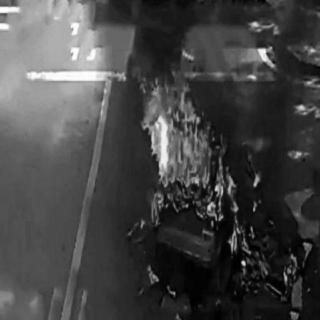Fire: (125, 51, 258, 253), (282, 252, 300, 284), (144, 267, 164, 284)
Smoke: (16, 15, 88, 121)
